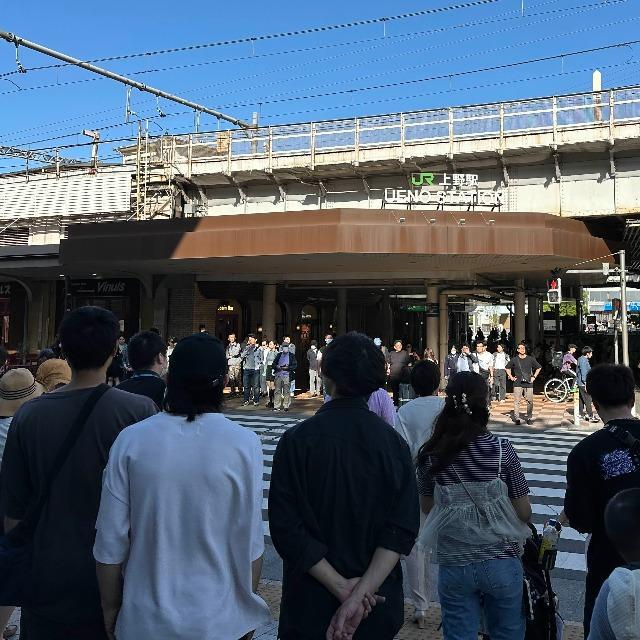NoHelmet: (55, 301, 121, 378), (318, 332, 389, 402), (585, 362, 639, 418)
NoVest: (113, 416, 266, 631), (275, 412, 418, 632), (420, 432, 535, 568)
